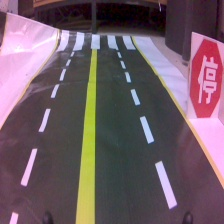stop: (189, 31, 223, 120)
